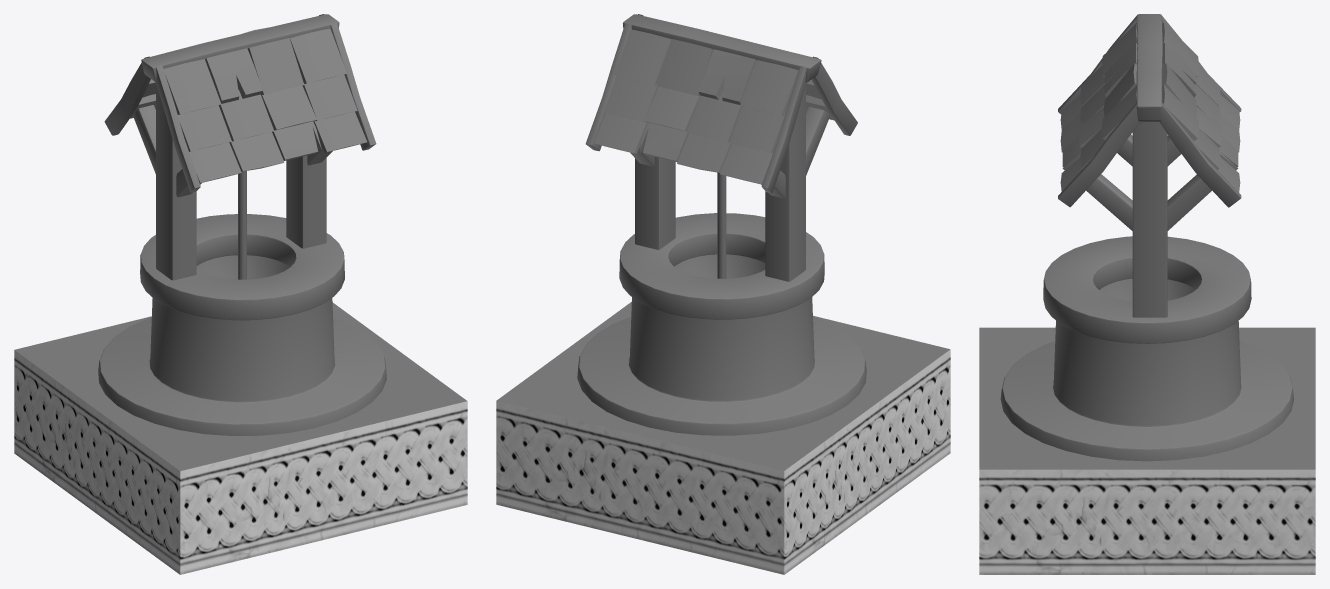
File: med_tile_ns_boundary_well_hd.fbx
3 views of the same model, side by side, from view 1: azimuth 30°, elevation 25°; view 2: azimuth 150°, elevation 25°; view 3: azimuth 270°, elevation 25° (orthographic).
Parts seen in each view (by area): view 1: med_tile_ns_well, med_tile_ns_boundary_well_hd; view 2: med_tile_ns_well, med_tile_ns_boundary_well_hd; view 3: med_tile_ns_well, med_tile_ns_boundary_well_hd.
Boxes of the visible parts, bbox=[...] form: med_tile_ns_well: bbox=[98, 14, 386, 435]; med_tile_ns_boundary_well_hd: bbox=[14, 302, 467, 574]; med_tile_ns_well: bbox=[577, 14, 866, 435]; med_tile_ns_boundary_well_hd: bbox=[496, 301, 950, 574]; med_tile_ns_well: bbox=[1000, 14, 1294, 461]; med_tile_ns_boundary_well_hd: bbox=[979, 327, 1315, 574].
Bounding box in the file's own units: 100 × 146 × 100.
